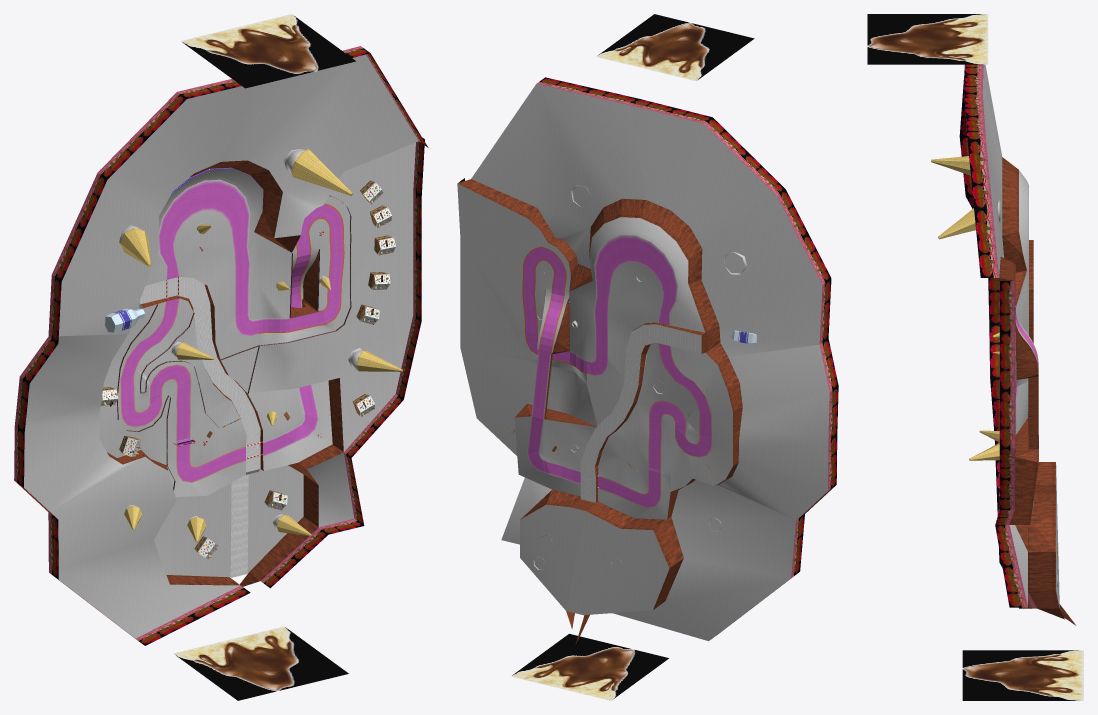
3 renders of one model, left to right at view 1: azimuth 30°, elevation 25°; view 2: azimuth 150°, elevation 25°; view 3: azimuth 270°, elevation 25°, orthographic. The views are drawn at different scales.
Visible parts, largest first — view 1: course_new_SKP__peach.001, course_new_SKP__orange.001, course_new_SKP__strawberry.001, course_new_SKP__whitecream.001, course_new_SKP__chocomountain.001, course_new_SKP__candybg.001, course_new_SKP__chocowall1.001, course_new_SKP__milk1.001, course_new_SKP__strawcreamroad.001, course_new_SKP__peachroad.001, course_new_SKP__conewall.001, course_new_SKP__orangeroad.001 (+3 smaller); view 2: course_new_SKP__orange.001, course_new_SKP__peach.001, course_new_SKP__strawberry.001, course_new_SKP__whitecream.001, course_new_SKP__chocowall1.001, course_new_SKP__chocomountain.001, course_new_SKP__candybg.001, course_new_SKP__strawcreamroad.001, course_new_SKP__peachroad.001, course_new_SKP__milk1.001, course_new_SKP__orangeroad.001, course_new_SKP__creamroad.001 (+1 smaller); view 3: course_new_SKP__chocomountain.001, course_new_SKP__candybg.001, course_new_SKP__chocowall1.001, course_new_SKP__whitecream.001, course_new_SKP__strawberry.001, course_new_SKP__orange.001, course_new_SKP__conewall.001, course_new_SKP__s64_iwa.001.
Part boxes in pixels (x1,y1,x2,y2): course_new_SKP__peach.001: (24, 298, 246, 638); course_new_SKP__orange.001: (59, 86, 415, 571); course_new_SKP__strawberry.001: (154, 54, 418, 577); course_new_SKP__whitecream.001: (103, 168, 413, 552); course_new_SKP__chocomountain.001: (173, 14, 356, 700); course_new_SKP__candybg.001: (14, 46, 428, 645); course_new_SKP__chocowall1.001: (107, 160, 343, 586); course_new_SKP__milk1.001: (139, 277, 260, 577); course_new_SKP__strawcreamroad.001: (158, 179, 258, 336); course_new_SKP__peachroad.001: (120, 298, 245, 482); course_new_SKP__conewall.001: (103, 150, 402, 557); course_new_SKP__orangeroad.001: (289, 203, 344, 332); course_new_SKP__orange.001: (457, 105, 822, 610); course_new_SKP__peach.001: (598, 342, 829, 641); course_new_SKP__strawberry.001: (471, 84, 669, 615); course_new_SKP__whitecream.001: (460, 217, 705, 496); course_new_SKP__chocowall1.001: (457, 179, 742, 644); course_new_SKP__chocomountain.001: (511, 14, 754, 700); course_new_SKP__candybg.001: (458, 77, 838, 638); course_new_SKP__strawcreamroad.001: (587, 235, 677, 375); course_new_SKP__peachroad.001: (598, 343, 711, 508); course_new_SKP__milk1.001: (580, 324, 701, 502); course_new_SKP__orangeroad.001: (522, 246, 569, 364); course_new_SKP__creamroad.001: (527, 416, 580, 484); course_new_SKP__chocomountain.001: (867, 14, 1083, 700); course_new_SKP__candybg.001: (959, 64, 1037, 608); course_new_SKP__chocowall1.001: (999, 157, 1076, 625); course_new_SKP__whitecream.001: (1015, 170, 1033, 517); course_new_SKP__strawberry.001: (982, 94, 1059, 604); course_new_SKP__orange.001: (982, 64, 1059, 607); course_new_SKP__conewall.001: (931, 156, 999, 487); course_new_SKP__s64_iwa.001: (1028, 376, 1038, 449).
Size of the model in its own units: 109959 by 170649 by 54245.
Materials: 36 (36 with a texture image).
